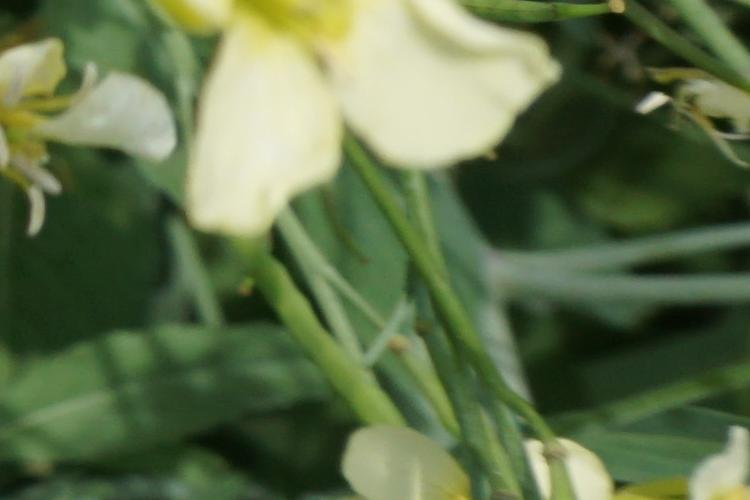white: (190, 12, 562, 214), (14, 51, 183, 212)
